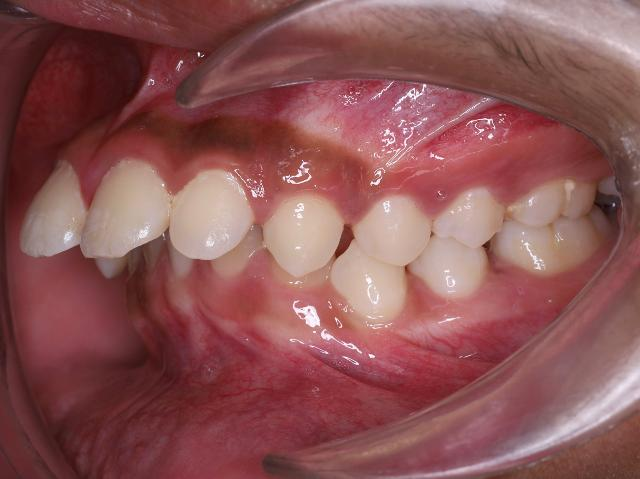canine class II 1/2: (261, 188, 409, 332)
molar class II 1/2: (490, 173, 610, 285)
